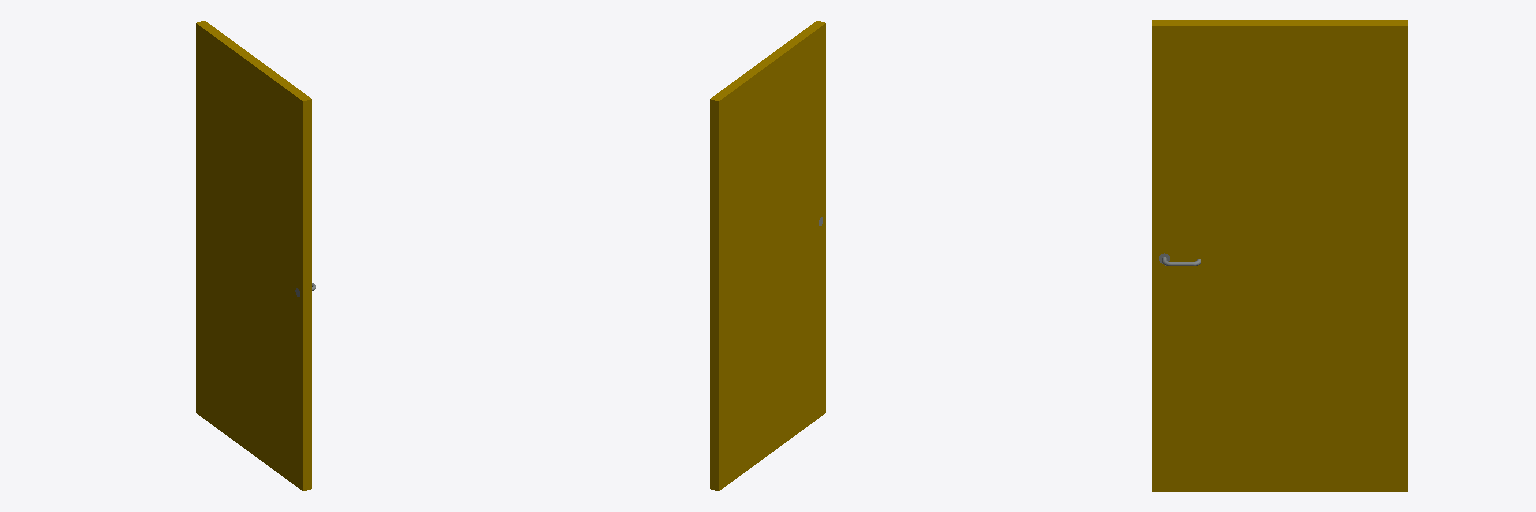
The robot description file, URDF, robot "model_door":
<?xml version="1.0" encoding="utf-8"?>
<!-- This URDF was automatically created by SolidWorks to URDF Exporter! Originally created by [author] ([email redacted]) 
     Commit Version: 1.6.0-4-g7f85cfe  Build Version: 1.6.7995.38578
     For more information, please see http://wiki.ros.org/sw_urdf_exporter -->
<robot
  name="model_door">
  <link
    name="base_link">
    <inertial>
      <origin
        xyz="-0.025 0.50036 1"
        rpy="0 0 0" />
      <mass
        value="849.32" />
      <inertia
        ixx="354.03"
        ixy="9.0062E-19"
        ixz="6.2498E-35"
        iyy="283.51"
        iyz="1.0561E-17"
        izz="70.873" />
    </inertial>
    <visual>
      <origin
        xyz="0 0 0"
        rpy="0 0 0" />
      <geometry>
        <mesh
          filename="package://model_door/meshes/base_link.STL" />
      </geometry>
      <material
        name="">
        <color
          rgba="0.64706 0.51765 0 1" />
      </material>
    </visual>
    <collision>
      <origin
        xyz="0 0 0"
        rpy="0 0 0" />
      <geometry>
        <mesh
          filename="package://model_door/meshes/base_link.STL" />
      </geometry>
    </collision>
  </link>
  <link
    name="link1">
    <inertial>
      <origin
        xyz="0.05023 0.023148 -1.1102E-16"
        rpy="0 0 0" />
      <mass
        value="1.0044" />
      <inertia
        ixx="0.001942"
        ixy="-0.0010302"
        ixz="-1.3476E-22"
        iyy="0.0013227"
        iyz="-3.3834E-21"
        izz="0.003092" />
    </inertial>
    <visual>
      <origin
        xyz="0 0 0"
        rpy="0 0 0" />
      <geometry>
        <mesh
          filename="package://model_door/meshes/link1.STL" />
      </geometry>
      <material
        name="">
        <color
          rgba="0.52941 0.54902 0.54902 1" />
      </material>
    </visual>
    <collision>
      <origin
        xyz="0 0 0"
        rpy="0 0 0" />
      <geometry>
        <mesh
          filename="package://model_door/meshes/link1.STL" />
      </geometry>
    </collision>
  </link>
  <joint
    name="joint1"
    type="revolute">
    <origin
      xyz="-0.05 0.05 1"
      rpy="0 0 0" />
    <parent
      link="base_link" />
    <child
      link="link1" />
    <axis
      xyz="1 0 0" />
    <limit
      lower="-1.57"
      upper="0"
      effort="10."
      velocity="1." />
    <dynamics damping="5" friction="0.0"/>

  </joint>
</robot>

--- Facts derived from the render (not from the file) ---
3 views of the same robot in one strip: view 1: azimuth 30°, elevation 25°; view 2: azimuth 150°, elevation 25°; view 3: azimuth 270°, elevation 25° (orthographic).
Model model_door with 2 links and 1 joints (1 revolute), rooted at base_link, posed every joint at zero.
Links seen in each view (by area): view 1: base_link; view 2: base_link; view 3: base_link.
Boxes of the visible links, box(x1,y1,x2,y2) form: base_link: box(196, 21, 311, 490); base_link: box(710, 21, 825, 490); base_link: box(1152, 20, 1407, 491).
Bounding box of the posed robot: 0.109 × 1 × 2 m (x, y, z).
2 mesh visuals loaded from 2 distinct referenced files (2 binary STL).